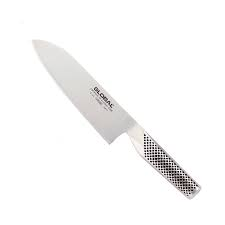kuchillu: (29, 38, 204, 201)
